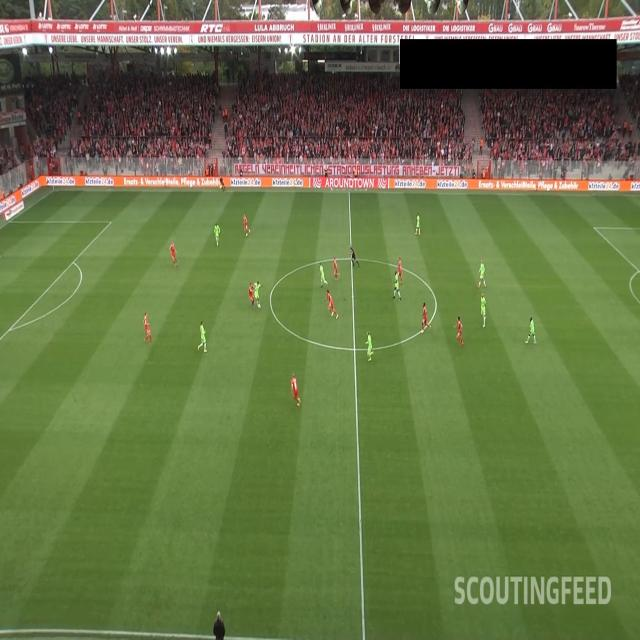ball: (258, 303, 261, 309)
